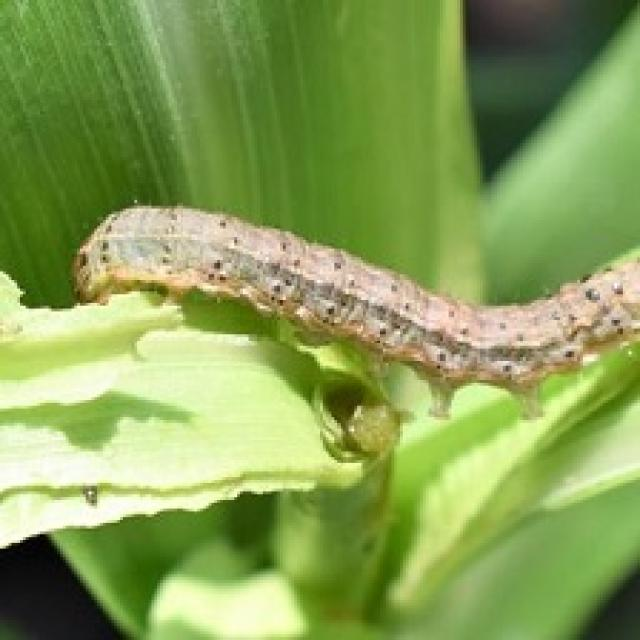Fall-armyworm: (67, 203, 640, 401)
